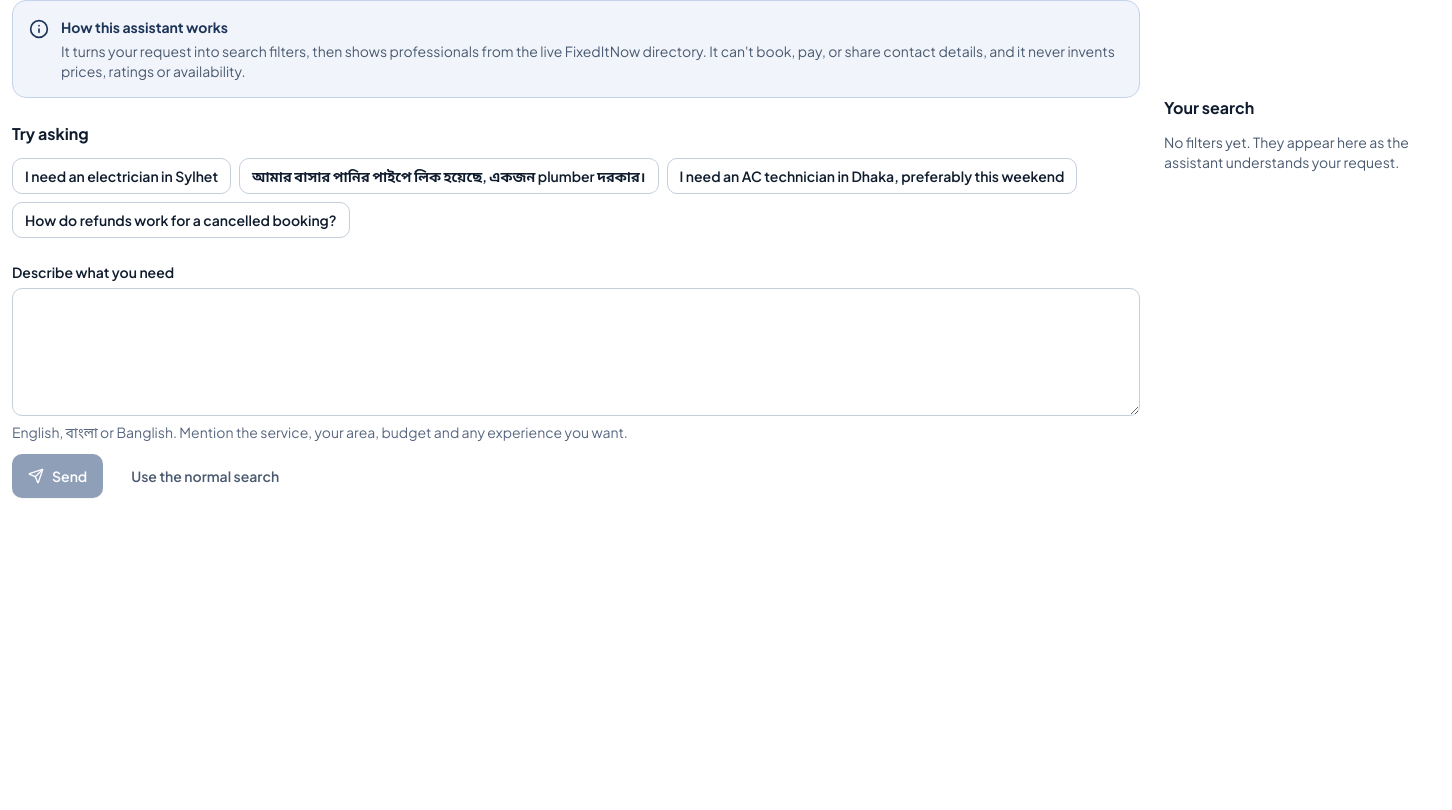
Test: assistant chat › no-results offers only the relaxations the server computed
In the text box labelled "Describe what you need": [576, 352] box top-left (12, 288), bottom-right (1140, 416), type "cheap plumber"
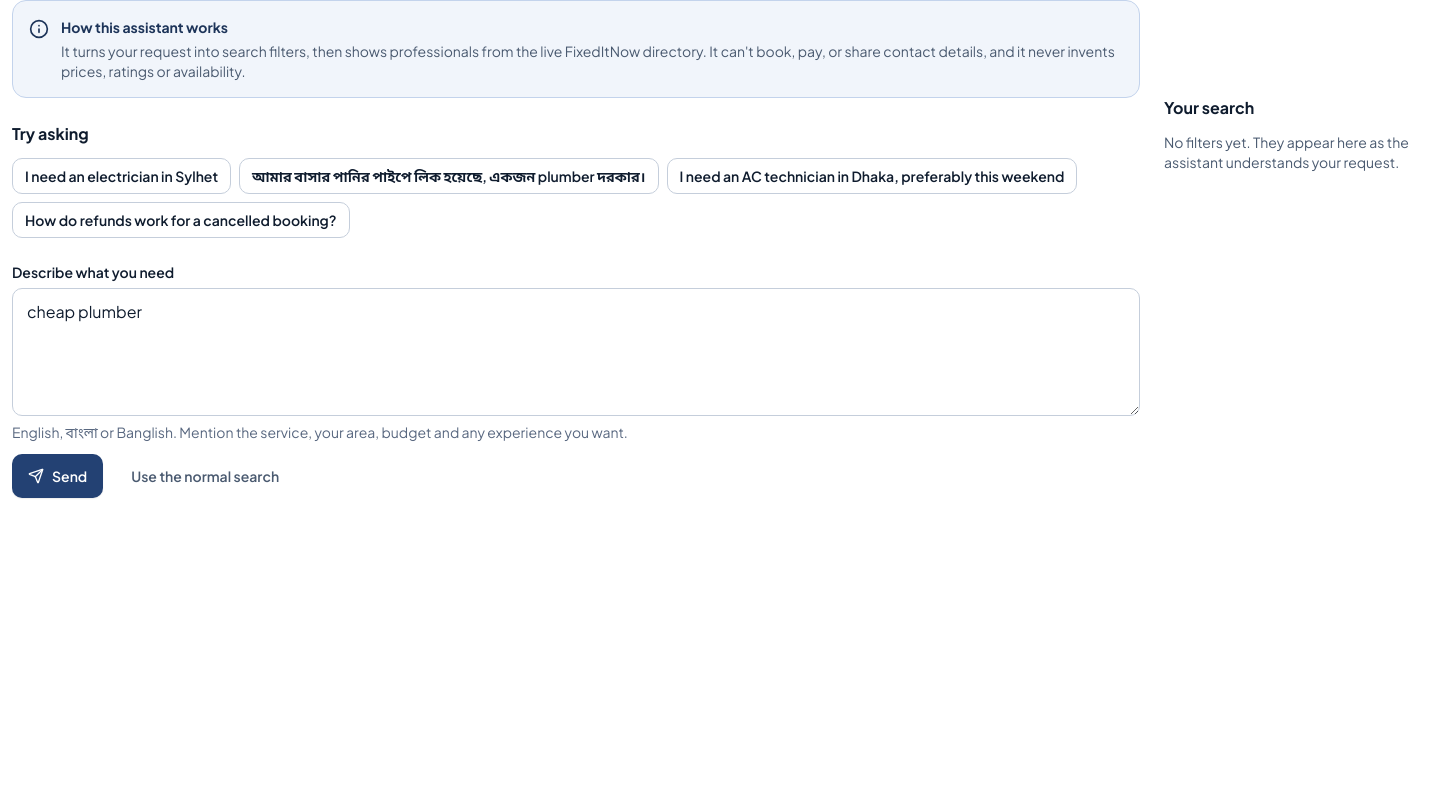
Click the button "Send": [58, 476] box top-left (12, 454), bottom-right (103, 498)
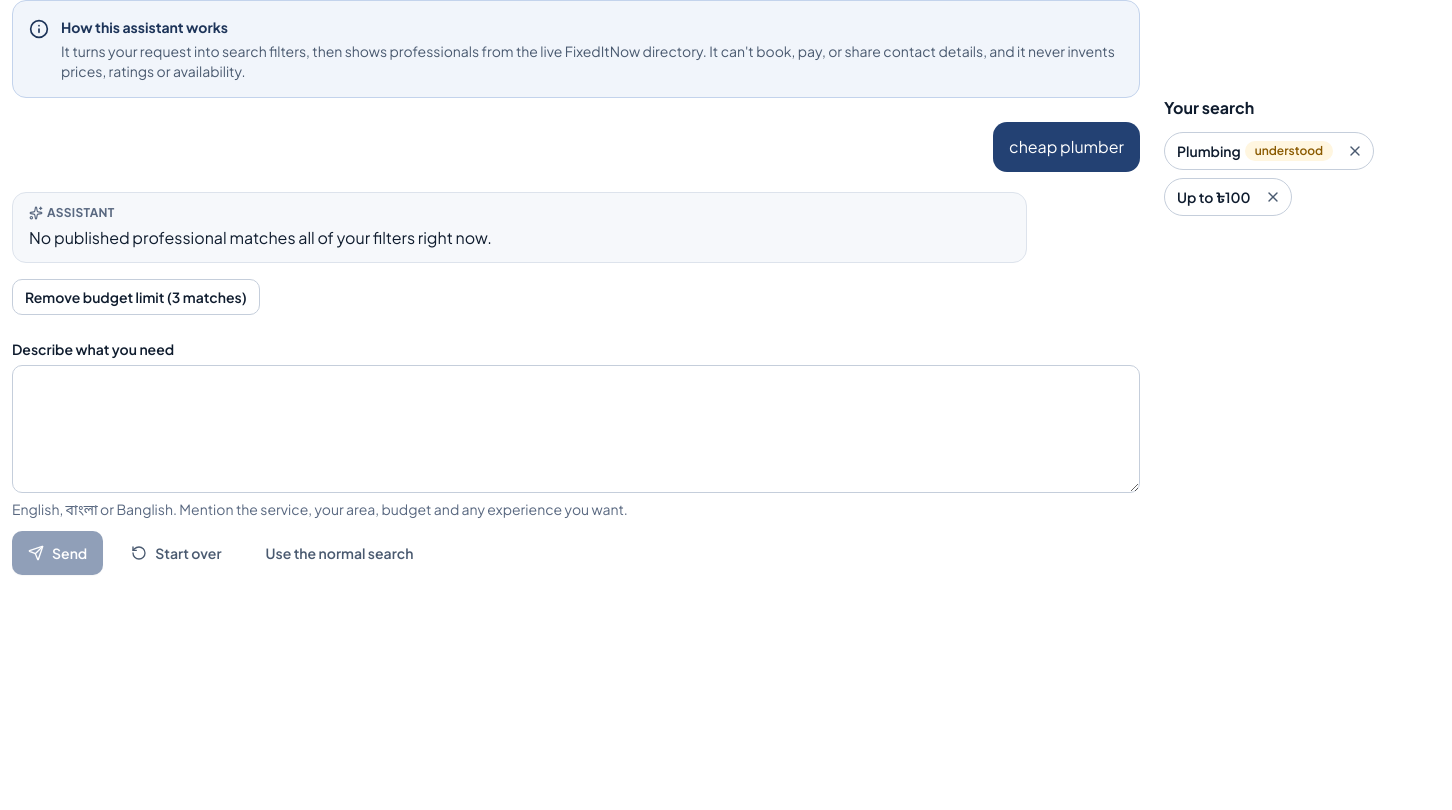
Now the button "Remove budget limit (3 matches)" is shown, box top-left (12, 279), bottom-right (260, 315)
